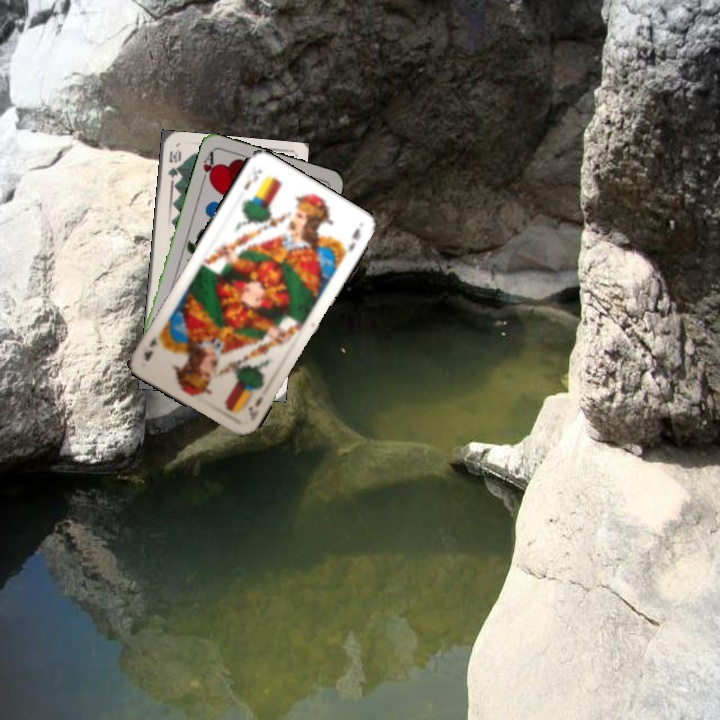EK: (240, 165, 265, 193), (244, 392, 265, 422)
G10: (164, 146, 183, 186)
HA: (197, 147, 219, 187)
